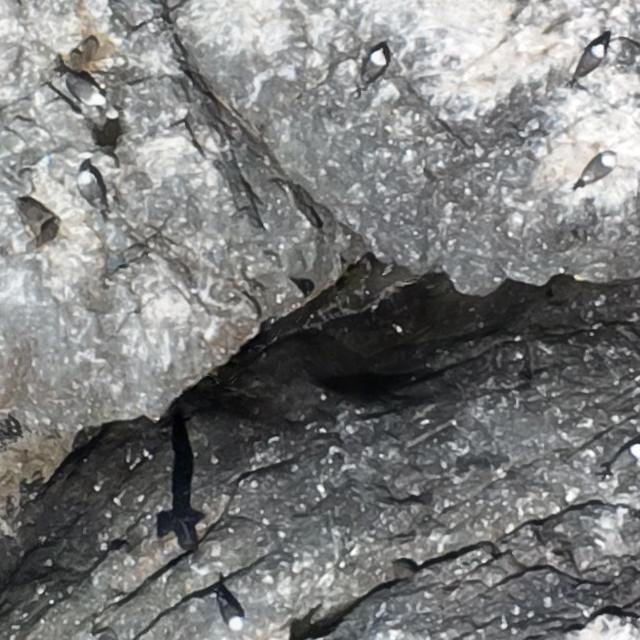umineko: (65, 77, 104, 105), (582, 154, 611, 182), (220, 598, 243, 629), (579, 42, 604, 70), (364, 48, 384, 82), (611, 444, 638, 469), (80, 173, 98, 203)
